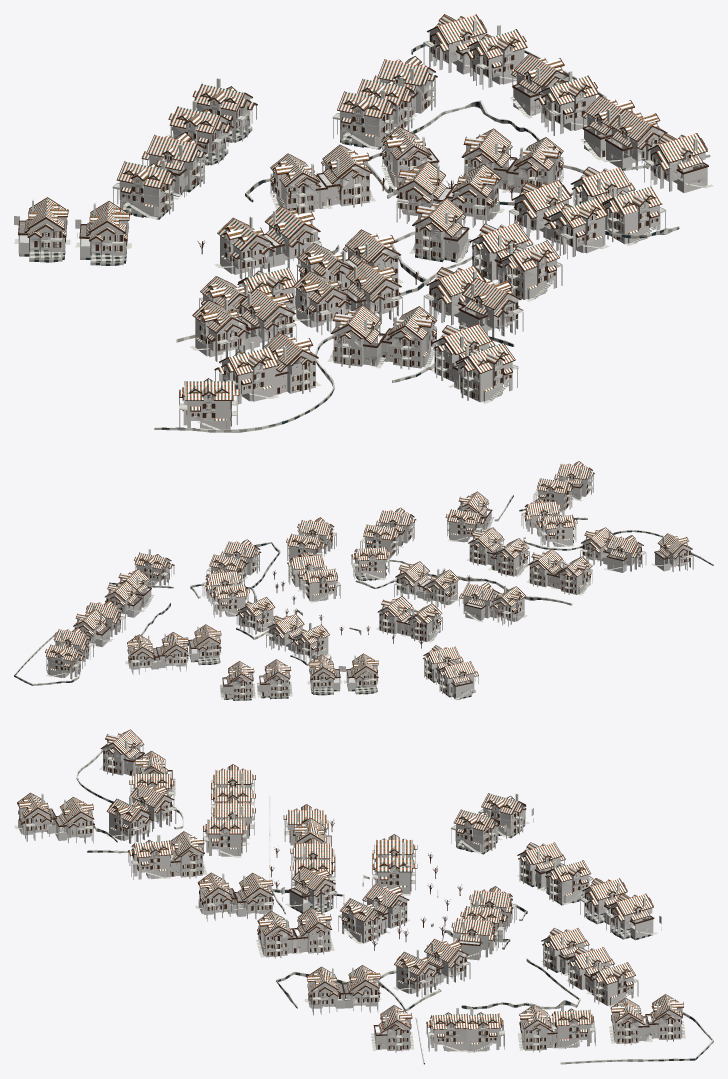
Rendered from context-buildings.glb.
3 views of the same model, one above another, from view 1: azimuth 30°, elevation 25°; view 2: azimuth 150°, elevation 25°; view 3: azimuth 270°, elevation 25° (orthographic). The views are drawn at different scales.
Size of the model in its own units: 253 by 40.49 by 270.
5 materials, 5 textured.
